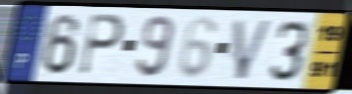3: (269, 18, 312, 83)
6: (176, 15, 218, 81), (42, 12, 83, 76)
9: (134, 14, 175, 80)
P: (76, 12, 127, 78)
V: (232, 17, 276, 82)
